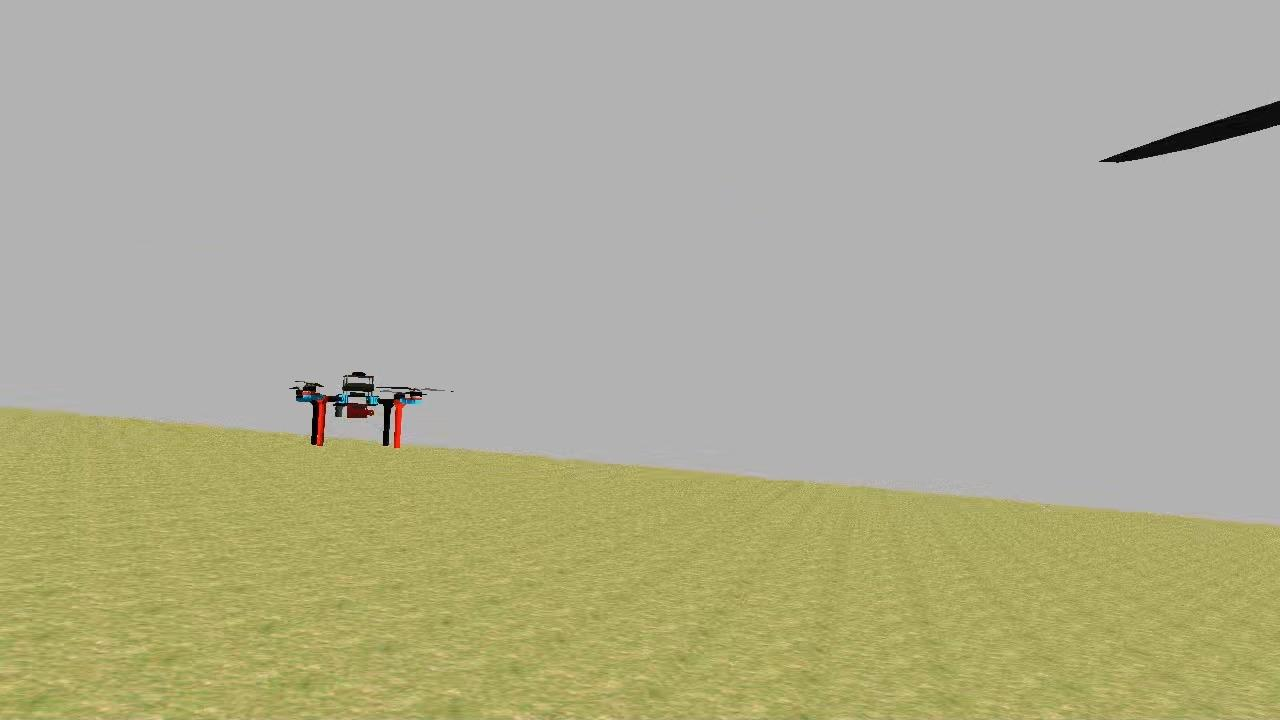UAV: (287, 370, 432, 456)
